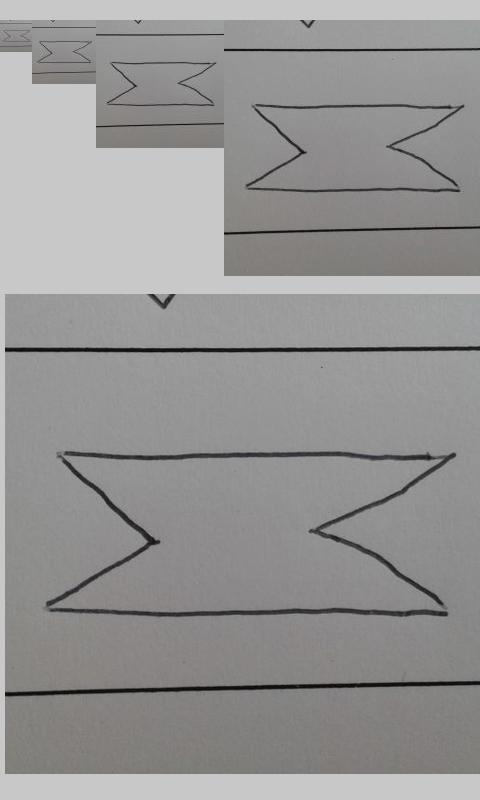edit_text: (36, 446, 459, 623), (243, 102, 466, 193), (106, 61, 216, 107), (37, 40, 93, 64), (3, 29, 31, 43)
